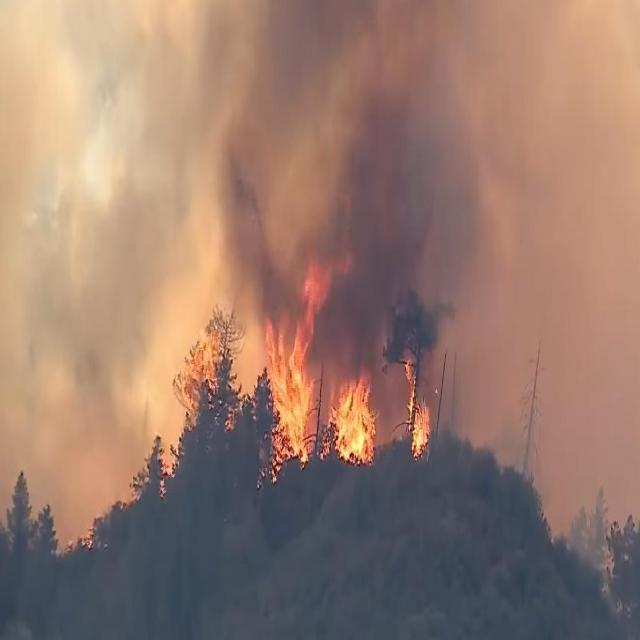Fire: (257, 262, 320, 477), (326, 366, 378, 472), (398, 356, 438, 469)
